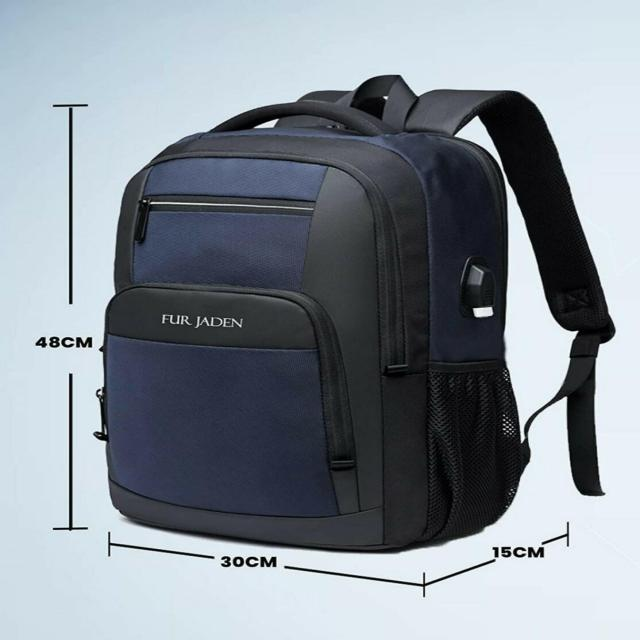backpack: (95, 75, 616, 553)
